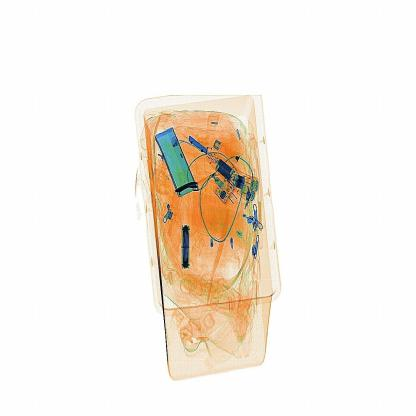scissors: (179, 221, 192, 274)
